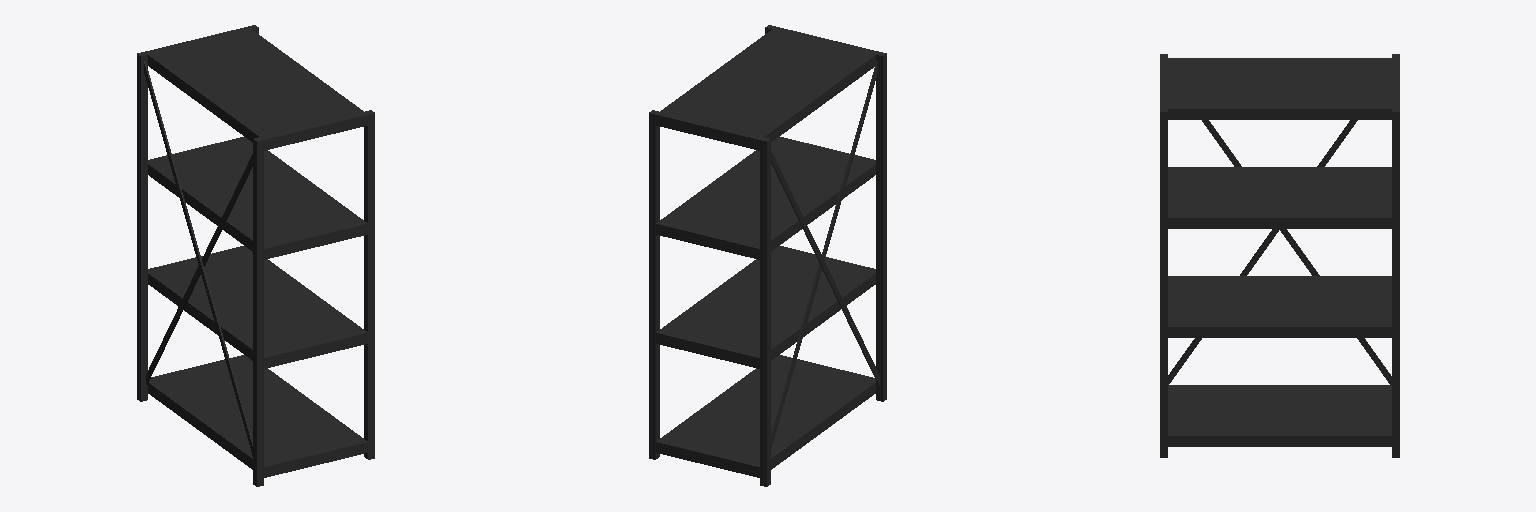
The model's file is shelf_LoD_1.obj.
3 renders of one model, left to right at view 1: azimuth 30°, elevation 25°; view 2: azimuth 150°, elevation 25°; view 3: azimuth 270°, elevation 25°, orthographic.
Parts seen in each view (by area): view 1: SM_ShelfRack_Mesh.001; view 2: SM_ShelfRack_Mesh.001; view 3: SM_ShelfRack_Mesh.001.
Boxes of the visible parts, x1,y1,x2,y2 form: SM_ShelfRack_Mesh.001: [137, 25, 374, 486]; SM_ShelfRack_Mesh.001: [649, 25, 886, 486]; SM_ShelfRack_Mesh.001: [1160, 54, 1399, 457].
Bounding box in the file's own units: 0.68 × 1.9 × 1.2.